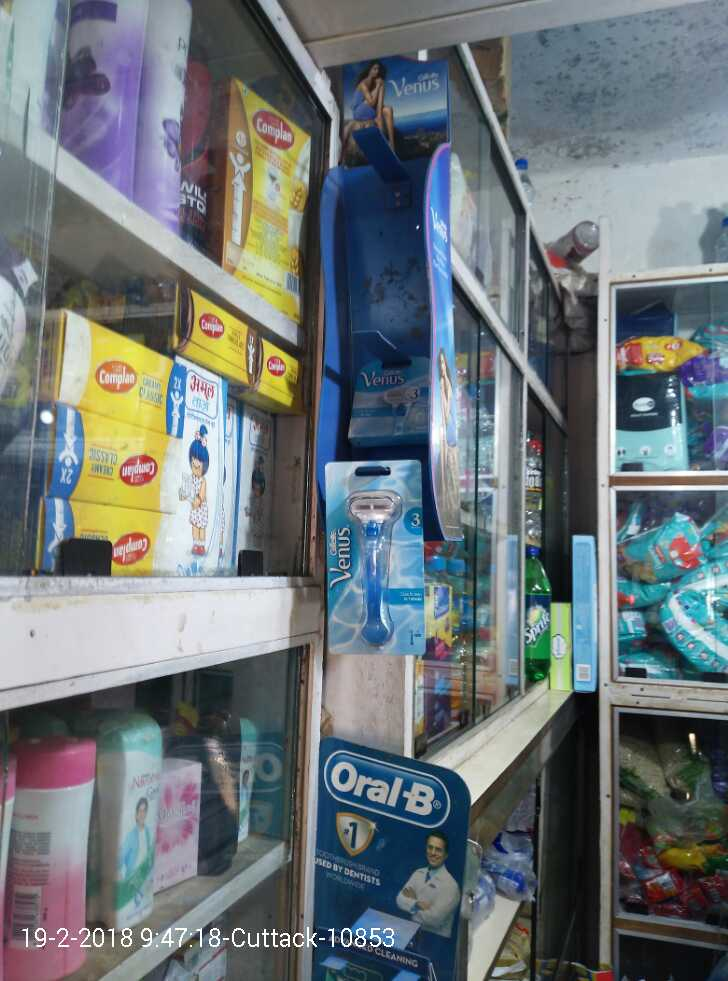beauty: (319, 458, 428, 655), (339, 349, 437, 450)
pharmacy: (624, 505, 699, 585)
